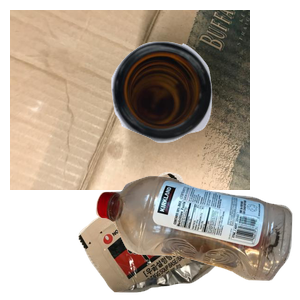cardboard: (10, 10, 250, 190)
glass: (109, 39, 300, 175)
plastic: (93, 173, 300, 300)
trash: (76, 170, 300, 300)
